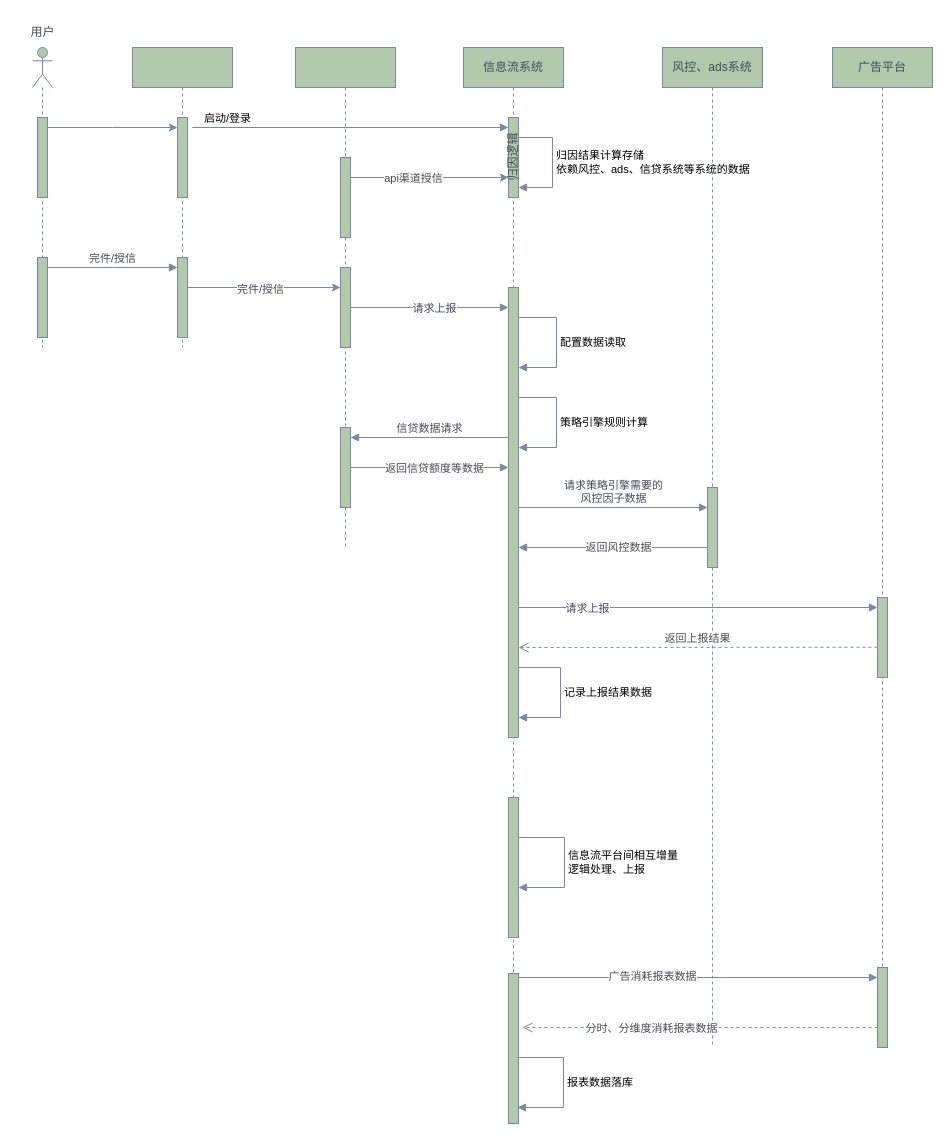
This 950x1141 diagram has some shape labels left out. The shapes that lost their labels are listed below. From the top down, each one's centre as x and y in pixels, then its label:
At (182,197): "app后端".
At (345,297): "信贷核心系统".
